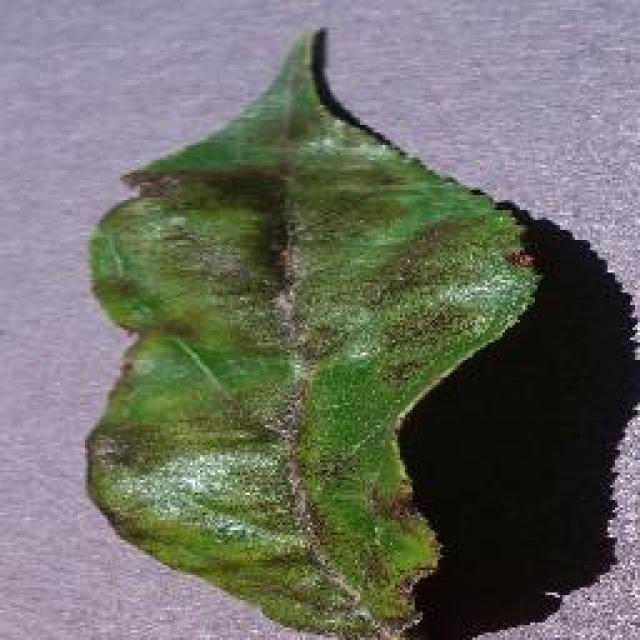App_scab: (109, 160, 456, 359), (80, 388, 392, 604)
